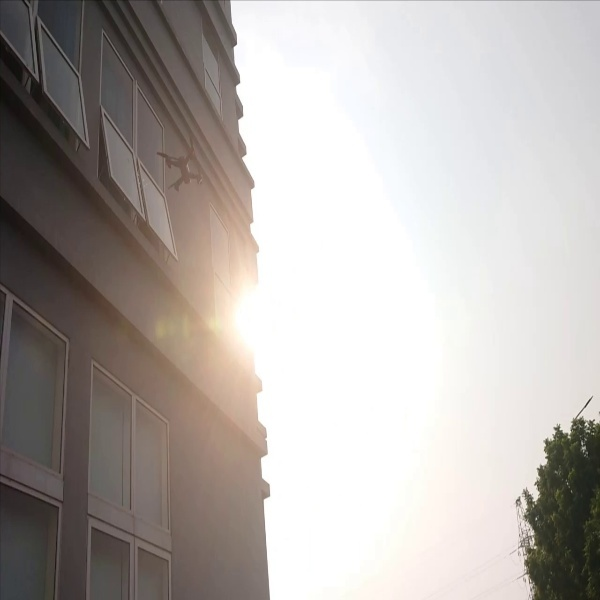drone: (153, 139, 208, 194)
